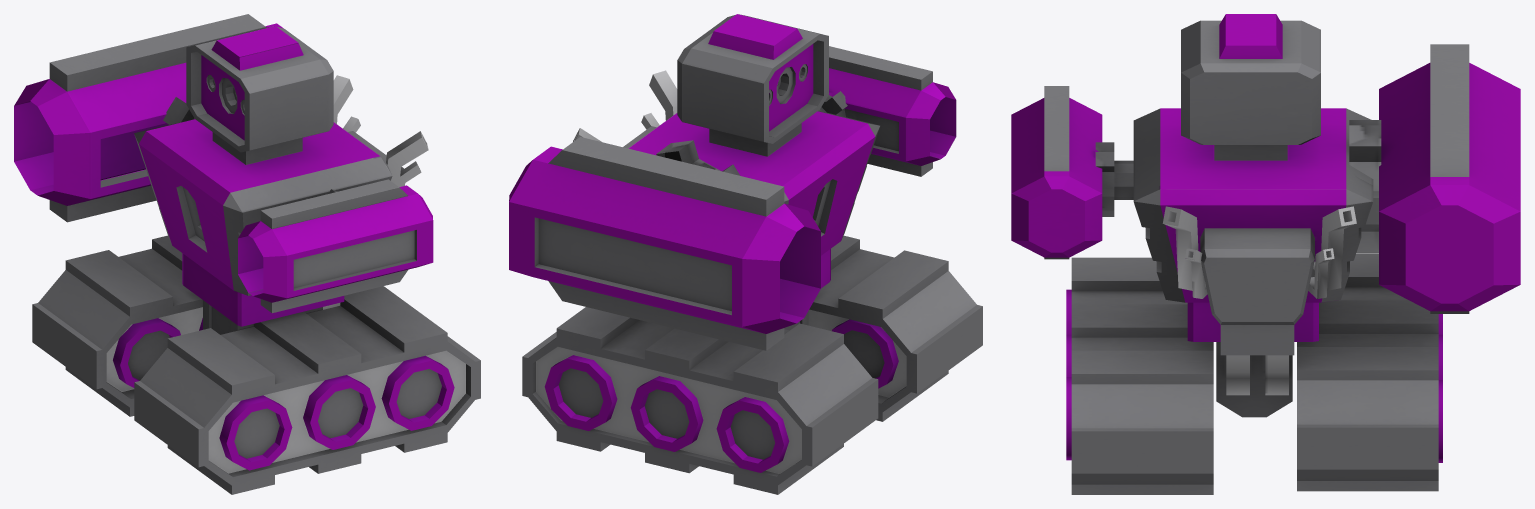
Rendered from Enemy2_Attack18.obj.
3 renders of one model, left to right at view 1: azimuth 30°, elevation 25°; view 2: azimuth 150°, elevation 25°; view 3: azimuth 270°, elevation 25°, orthographic. The views are drawn at different scales.
Parts seen in each view (by area): view 1: Object006, Object007, Object011, Object010, Object009; view 2: Object006, Object011, Object007, Object010, Object009; view 3: Object006, Object007, Object011, Object010, Object009, Object008.
Part boxes in pixels (x1,y1,x2,y2): Object006: (32,179,480,494); Object007: (134,26,392,334); Object011: (14,14,283,222); Object010: (323,75,428,309); Object009: (163,97,194,124); Object006: (522,46,982,494); Object011: (509,137,820,350); Object007: (628,14,879,330); Object010: (573,70,677,148); Object009: (656,140,740,175); Object006: (1011,86,1442,494); Object007: (1133,14,1373,417); Object011: (1379,44,1520,313); Object010: (1162,206,1356,395); Object009: (1349,120,1381,253); Object008: (1095,142,1133,216).
Bounding box in the file's own units: 87.04 × 108 × 123.
